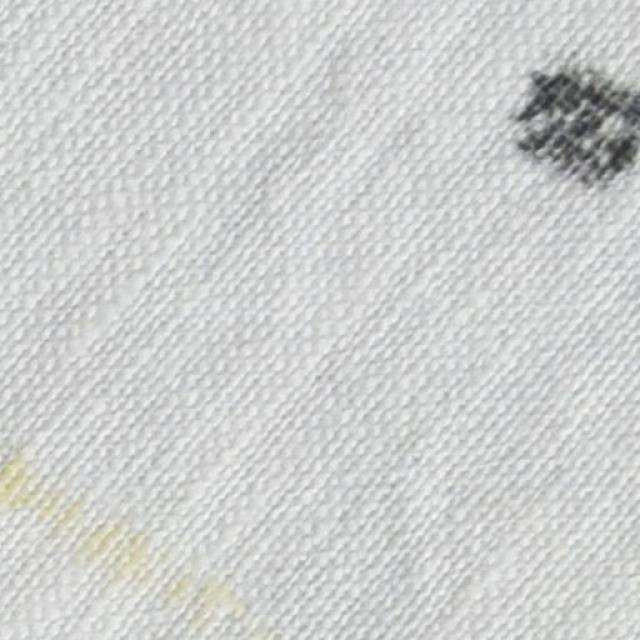Stain: (0, 431, 180, 598), (507, 69, 640, 182)
